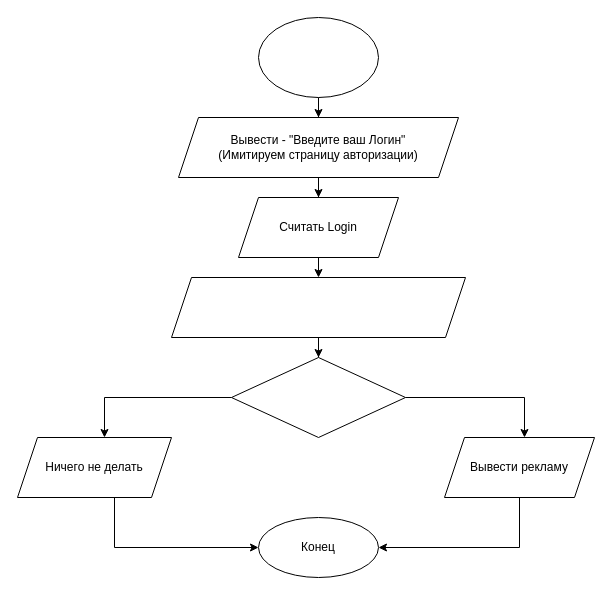
The diagram is 612 pixels wide and 595 high, and some of its shapes have lost their labels. The box of each missing label's shape, as (x1, y1, x2, y2) in pixels:
IsPremium() == true: (230, 356, 406, 438)
Вывести - "Добро пожаловать! Name" (Имитируем UI уведомление о приветствии): (170, 276, 466, 338)
Начало: (258, 16, 378, 98)
